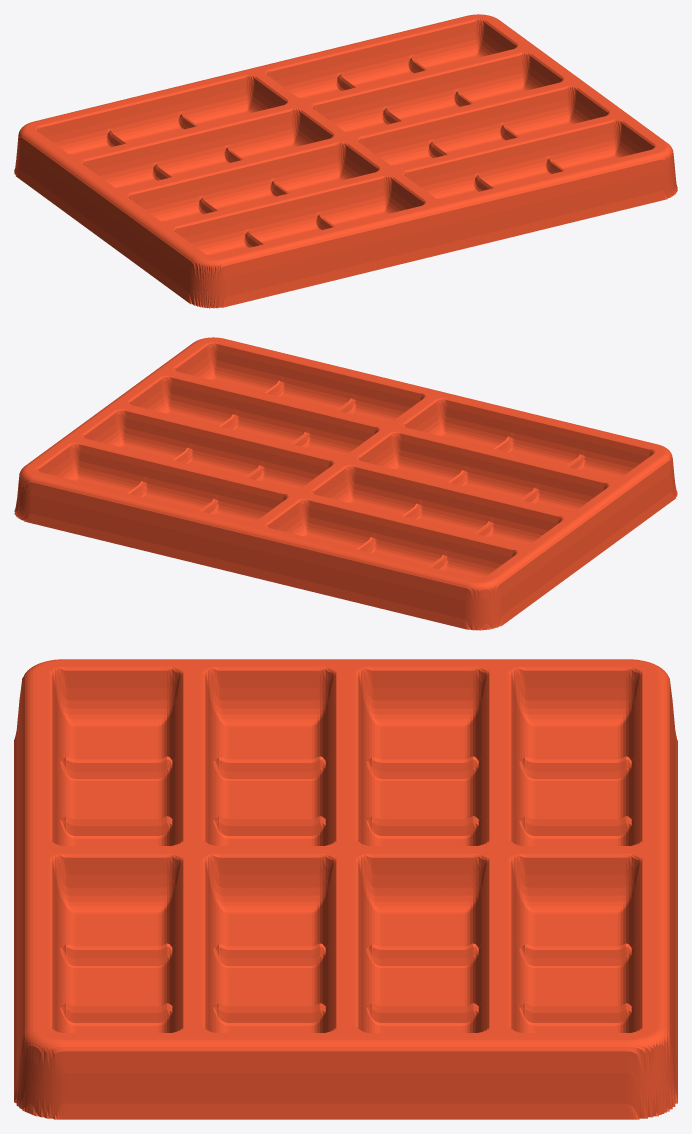
Rendered from mold.glb.
3 views of the same model, one above another, from view 1: azimuth 30°, elevation 25°; view 2: azimuth 150°, elevation 25°; view 3: azimuth 270°, elevation 25° (orthographic). The views are drawn at different scales.
Visible parts, largest first — view 1: geometry_0; view 2: geometry_0; view 3: geometry_0.
Part boxes in pixels (x1,y1,x2,y2): geometry_0: [14, 14, 677, 308]; geometry_0: [14, 337, 677, 630]; geometry_0: [14, 659, 677, 1119].
Bounding box in the file's own units: 0.1715 × 0.0145 × 0.1215.
